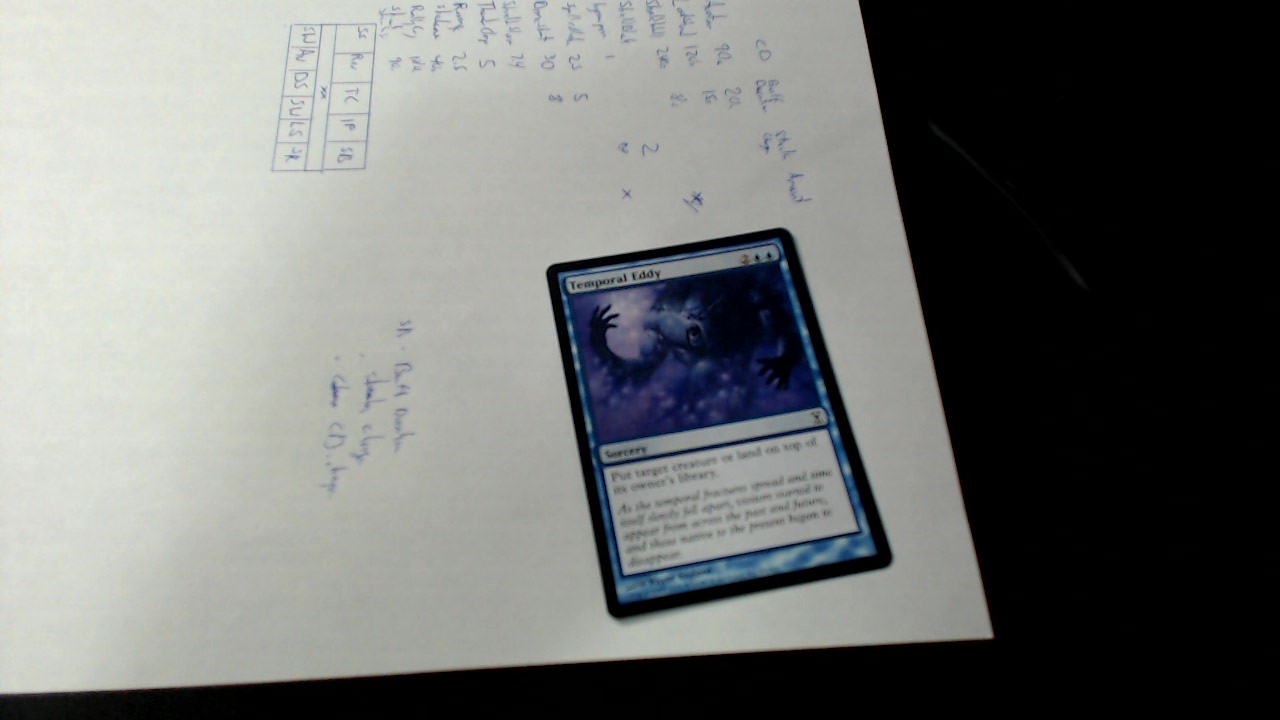MTG Card: (540, 222, 904, 625)
